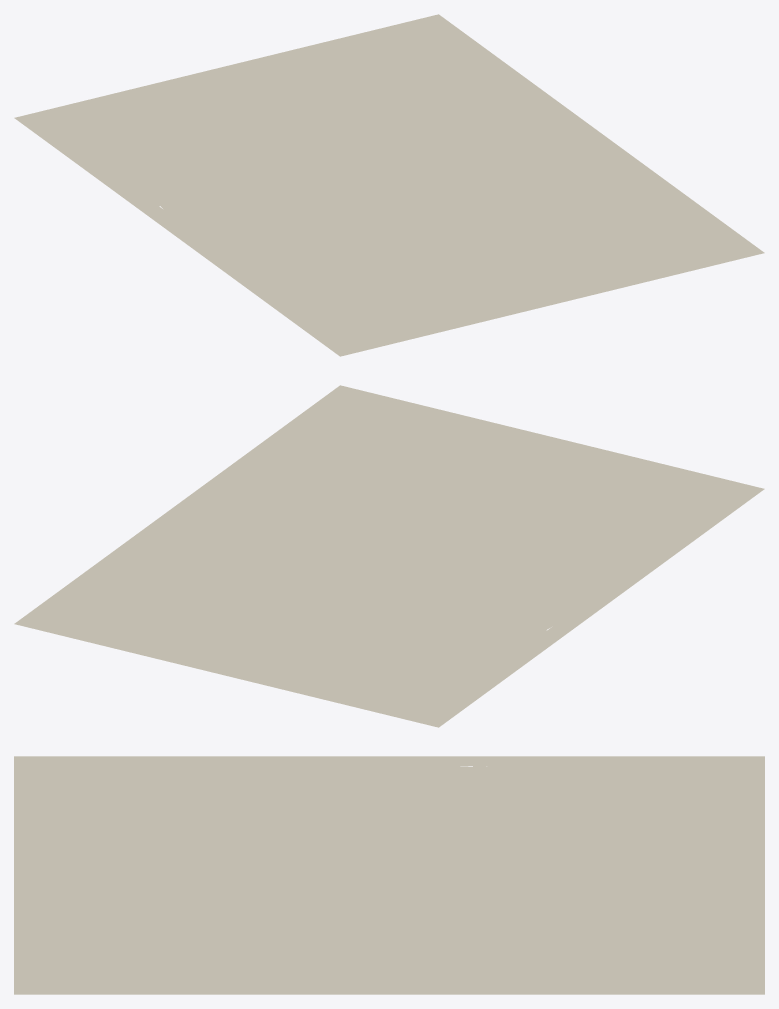
Rendered from paper.fbx.
3 renders of one model, top to bottom at view 1: azimuth 30°, elevation 25°; view 2: azimuth 150°, elevation 25°; view 3: azimuth 270°, elevation 25°, orthographic. The views are drawn at different scales.
Visible parts, largest first — view 1: Plane.006; view 2: Plane.006; view 3: Plane.006.
Boxes of the visible parts, box(x1,y1,x2,y2) form: Plane.006: box(14, 14, 764, 356); Plane.006: box(14, 385, 764, 727); Plane.006: box(14, 756, 764, 994).
Bounding box in the file's own units: 201 × 4.37e-05 × 268.
